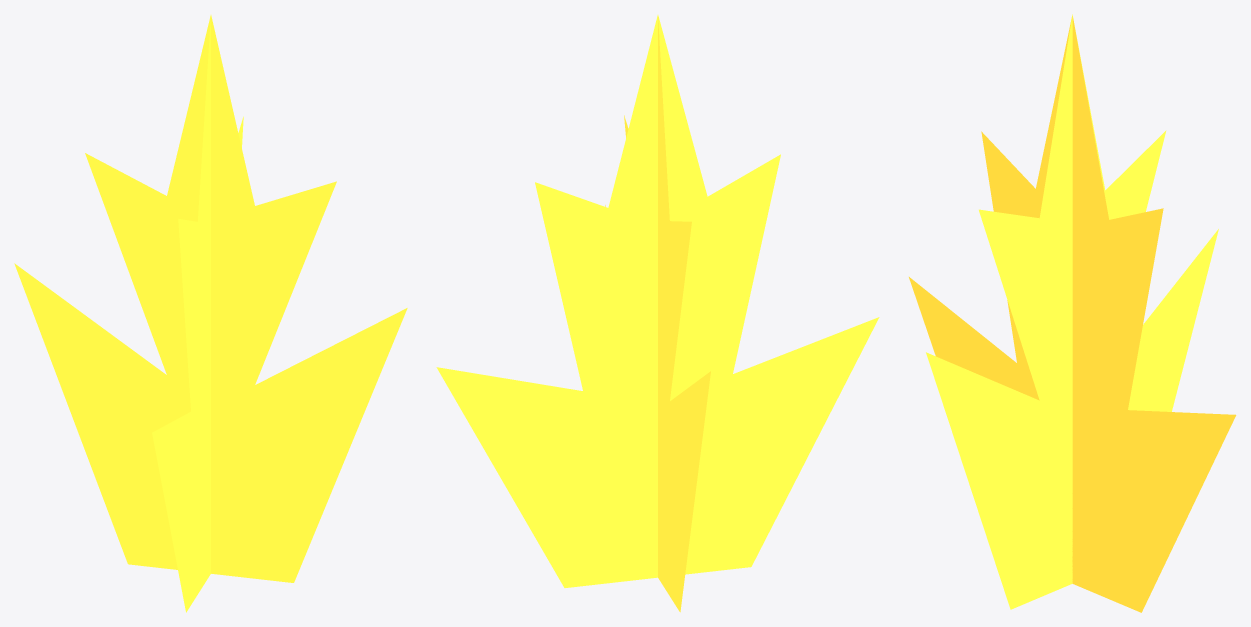
Rendered from fire.glb.
3 views of the same model, side by side, from view 1: azimuth 30°, elevation 25°; view 2: azimuth 150°, elevation 25°; view 3: azimuth 270°, elevation 25° (orthographic).
Visible parts, largest first — view 1: fire; view 2: fire; view 3: fire.
Part boxes in pixels (x1=…): fire: x1=14, y1=15, x2=407, y2=612; fire: x1=436, y1=15, x2=879, y2=612; fire: x1=909, y1=14, x2=1236, y2=612.
Size of the model in its own units: 0.7351 by 1.41 by 0.7351.
1 material, 1 textured.
